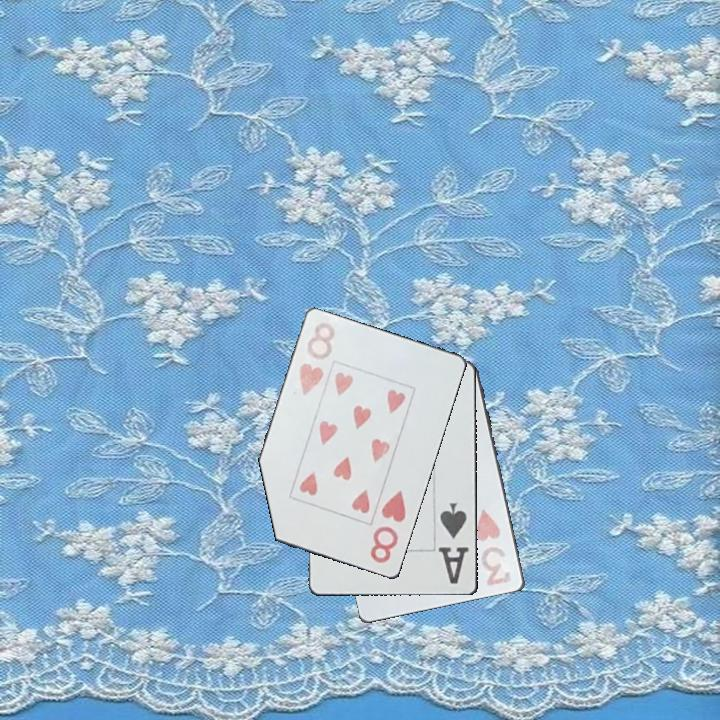3h: (473, 506, 515, 589)
8h: (295, 319, 338, 398), (367, 487, 409, 567)
As: (435, 499, 472, 587)
